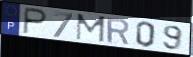0: (134, 21, 157, 49)
7: (53, 11, 74, 39)
9: (162, 25, 184, 51)
M: (75, 13, 107, 44)
P: (22, 7, 49, 36)
R: (105, 17, 131, 47)
